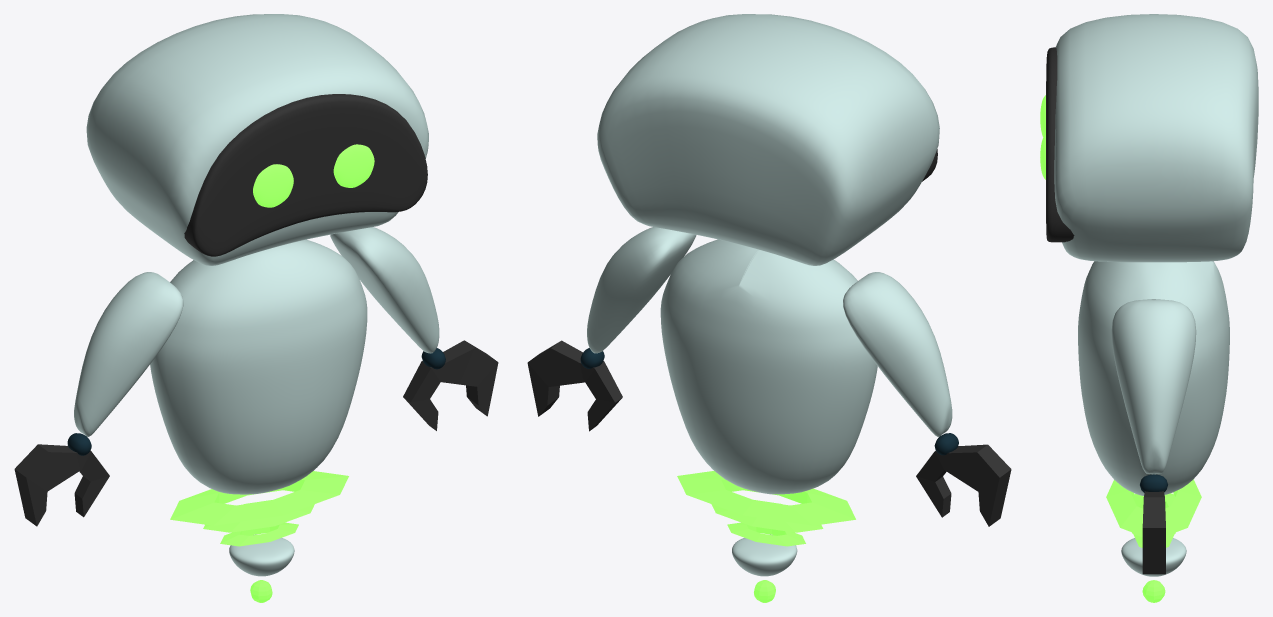
Rendered from Robot.fbx.
3 renders of one model, left to right at view 1: azimuth 30°, elevation 25°; view 2: azimuth 150°, elevation 25°; view 3: azimuth 270°, elevation 25°, orthographic.
Parts seen in each view (by area): view 1: Cuerpo, Cabeza, Visor, Brazo, Brazo.001, Anillo1, Mano, Mano.001, Culito, Eye-L, eye-R, Anillo3 (+1 smaller); view 2: Cabeza, Cuerpo, Brazo, Brazo.001, Anillo1, Mano, Mano.001, Culito, Anillo3, Anilloi2; view 3: Cabeza, Cuerpo, Brazo.001, Anillo1, Visor, Mano.001, Culito, Muñeca.001, Sphere.
Boxes of the visible parts, left/top/right/bottom form: Cuerpo: left=150, top=239, right=367, bottom=494; Cabeza: left=86, top=14, right=428, bottom=265; Visor: left=184, top=94, right=427, bottom=256; Brazo: left=74, top=272, right=183, bottom=436; Brazo.001: left=330, top=227, right=439, bottom=353; Anillo1: left=170, top=471, right=348, bottom=525; Mano: left=14, top=444, right=109, bottom=526; Mano.001: left=403, top=340, right=498, bottom=430; Culito: left=229, top=534, right=294, bottom=576; Eye-L: left=333, top=144, right=374, bottom=187; eye-R: left=253, top=164, right=293, bottom=207; Anillo3: left=220, top=522, right=298, bottom=546; Cabeza: left=597, top=14, right=939, bottom=265; Cuerpo: left=660, top=239, right=877, bottom=494; Brazo: left=843, top=272, right=952, bottom=436; Brazo.001: left=587, top=227, right=696, bottom=353; Anillo1: left=677, top=471, right=855, bottom=525; Mano: left=916, top=444, right=1011, bottom=526; Mano.001: left=527, top=340, right=622, bottom=431; Culito: left=732, top=534, right=797, bottom=576; Anillo3: left=727, top=522, right=805, bottom=546; Anilloi2: left=711, top=500, right=823, bottom=532; Cabeza: left=1054, top=14, right=1258, bottom=262; Cuerpo: left=1078, top=261, right=1229, bottom=495; Brazo.001: left=1111, top=299, right=1196, bottom=474; Anillo1: left=1106, top=479, right=1201, bottom=536; Visor: left=1046, top=47, right=1074, bottom=242; Mano.001: left=1142, top=491, right=1165, bottom=574; Culito: left=1121, top=538, right=1186, bottom=576; Muñeca.001: left=1140, top=474, right=1167, bottom=492; Sphere: left=1142, top=580, right=1165, bottom=602.
Size of the model in its own units: 283 by 323 by 114.
